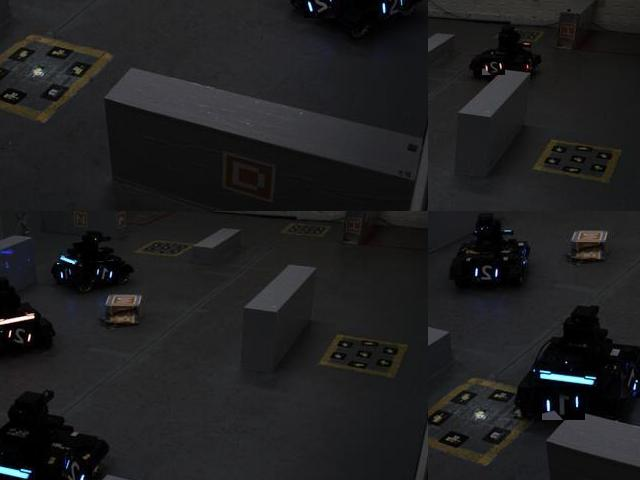armor: (542, 389, 586, 421), (470, 259, 502, 287), (62, 454, 94, 479), (91, 261, 121, 286), (5, 326, 36, 350), (377, 0, 408, 22), (304, 0, 338, 20), (621, 363, 639, 400), (482, 59, 506, 77), (58, 263, 74, 286), (522, 58, 536, 74)
